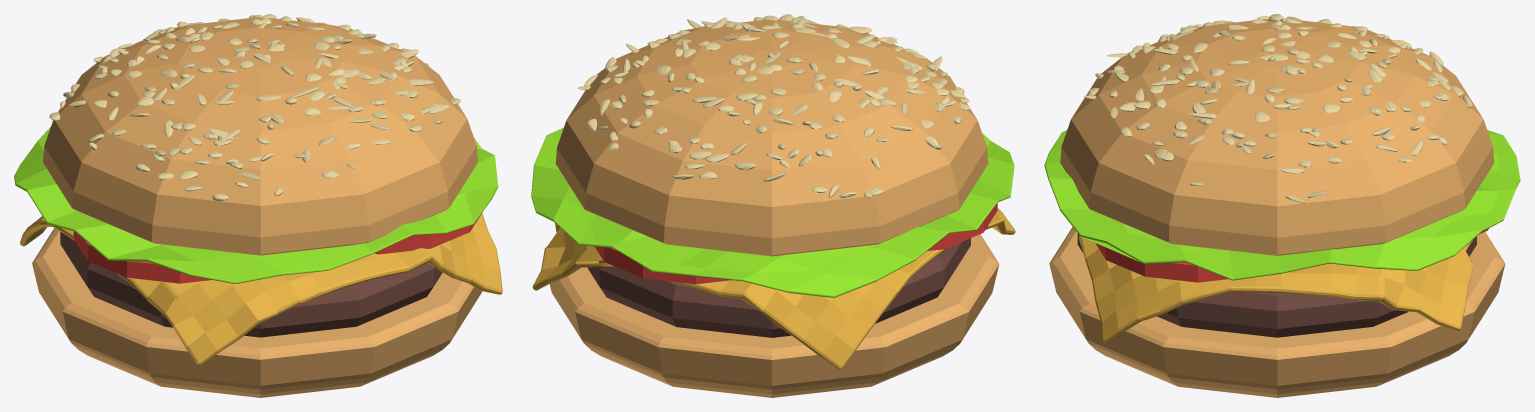
3 renders of one model, left to right at view 1: azimuth 30°, elevation 25°; view 2: azimuth 150°, elevation 25°; view 3: azimuth 270°, elevation 25°, orthographic.
Visible parts, largest first — view 1: Burger_Top, Burger_Bottom, Cheese, Salad, Patty, Tomatos; view 2: Burger_Top, Burger_Bottom, Salad, Cheese, Patty, Tomatos; view 3: Burger_Top, Burger_Bottom, Salad, Cheese, Patty, Tomatos.
Boxes of the visible parts, bbox=[...] form: Burger_Top: bbox=[43, 17, 477, 255]; Burger_Bottom: bbox=[32, 228, 482, 397]; Cheese: bbox=[20, 213, 502, 365]; Salad: bbox=[14, 127, 498, 283]; Patty: bbox=[60, 231, 442, 337]; Tomatos: bbox=[73, 212, 482, 283]; Burger_Top: bbox=[555, 19, 988, 256]; Burger_Bottom: bbox=[549, 234, 999, 397]; Salad: bbox=[531, 128, 1014, 297]; Cheese: bbox=[532, 208, 1015, 369]; Patty: bbox=[587, 238, 970, 337]; Tomatos: bbox=[594, 203, 997, 284]; Burger_Top: bbox=[1060, 18, 1494, 255]; Burger_Bottom: bbox=[1049, 227, 1505, 397]; Salad: bbox=[1044, 130, 1520, 280]; Cheese: bbox=[1078, 235, 1474, 343]; Patty: bbox=[1077, 233, 1476, 337]; Tomatos: bbox=[1095, 228, 1488, 282].
Size of the model in its own units: 205 by 123 by 205.
